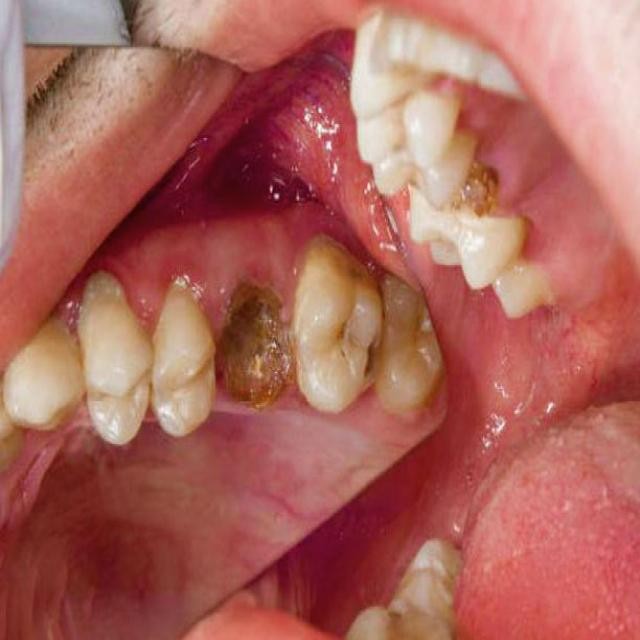caries: (220, 288, 289, 400), (462, 155, 496, 216), (360, 320, 382, 379)
